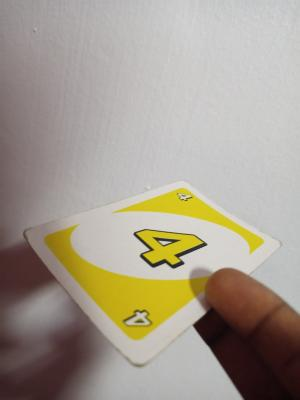num_4: (124, 222, 212, 276)
yellow: (103, 287, 166, 334), (162, 192, 201, 227)
